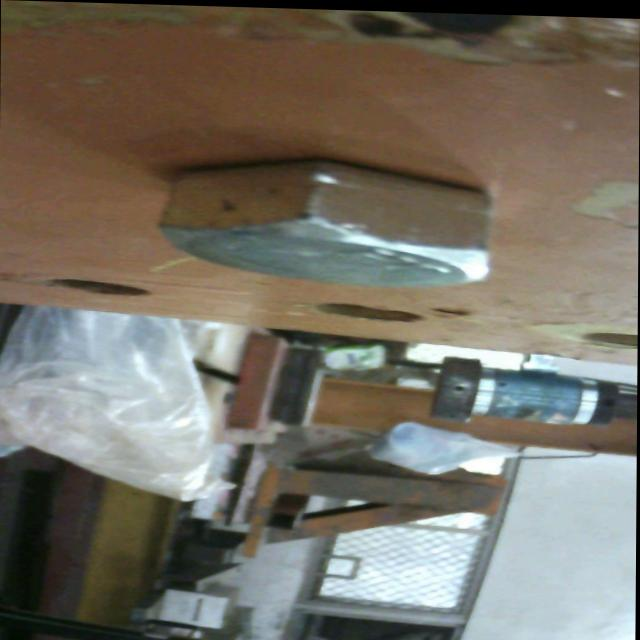Missing bolt: (318, 301, 426, 322), (47, 278, 153, 297), (583, 327, 639, 346)
Regular bolt: (160, 145, 493, 286)
